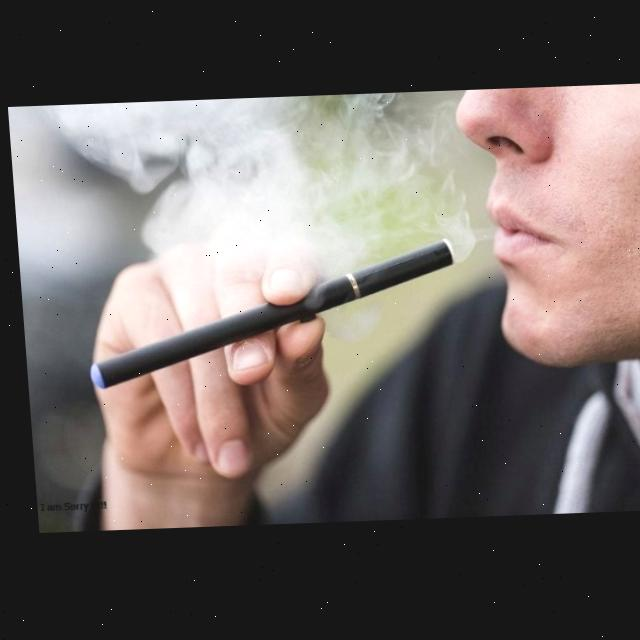vape: (78, 241, 458, 390)
